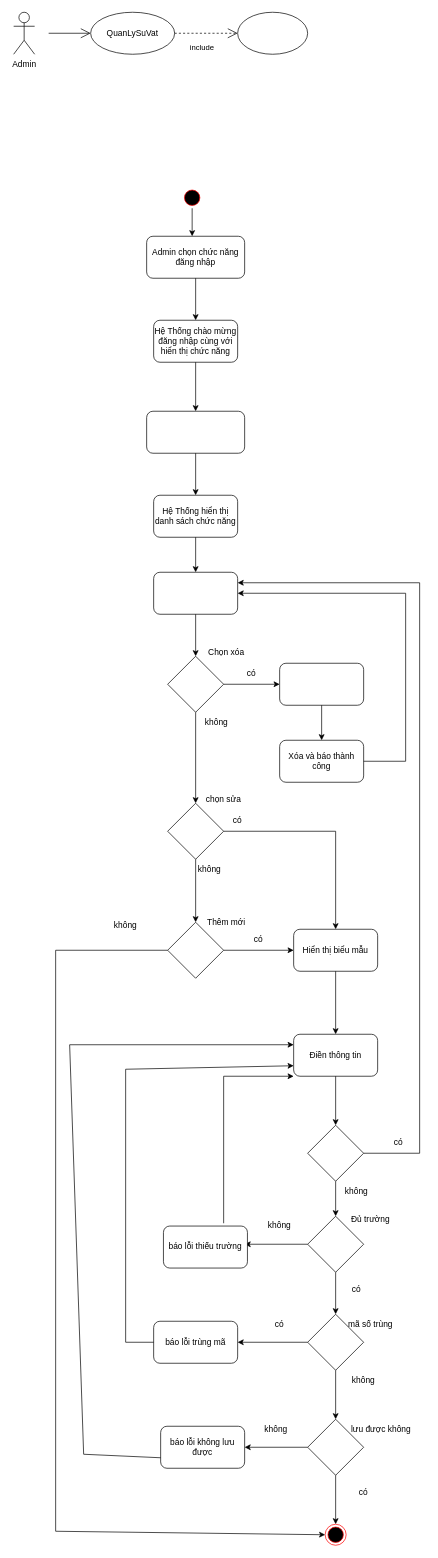
Some shapes in this 438 by 1558 pixel diagram are drawn without their labels. The centre of each missing label's shape, as x and y in pixels:
"Admin chọn Quản lý sự vật" belongs at [195,432].
"Chọn thao tác" belongs at [195,593].
"Hộp thoại xác nhận" belongs at [321,684].
"Nhấn hủy" belongs at [335,1153].
"Đăng nhập" belongs at [272,33].
